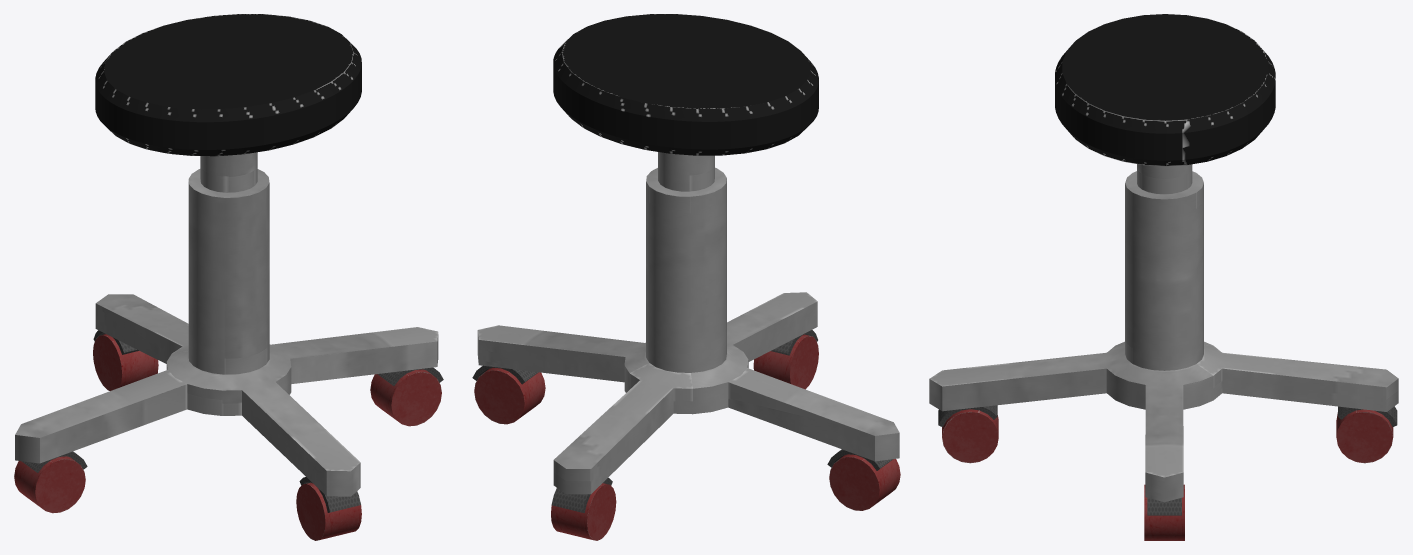
The model's file is chair.fbx.
The picture shows the model from 3 angles, left to right: view 1: azimuth 30°, elevation 25°; view 2: azimuth 150°, elevation 25°; view 3: azimuth 270°, elevation 25°; orthographic projection. The views are drawn at different scales.
Visible parts, largest first — view 1: pCylinder1, pCylinder2, polySurface1 (×4), polySurface2; view 2: pCylinder1, pCylinder2, polySurface1 (×4), polySurface3; view 3: pCylinder1, pCylinder2, polySurface1 (×3), polySurface2.
Part boxes in pixels (x1,y1,x2,y2): pCylinder1: [15, 152, 438, 496]; pCylinder2: [95, 14, 361, 156]; polySurface1 (×4): [14, 334, 441, 540]; polySurface2: [299, 477, 360, 512]; pCylinder1: [477, 152, 899, 494]; pCylinder2: [553, 14, 818, 155]; polySurface1 (×4): [474, 334, 900, 540]; polySurface3: [551, 477, 612, 512]; pCylinder1: [929, 164, 1398, 502]; pCylinder2: [1055, 14, 1275, 166]; polySurface1 (×3): [942, 409, 1393, 540]; polySurface2: [1147, 497, 1181, 515].
Bounding box in the file's own units: 107 × 96.15 × 106.
